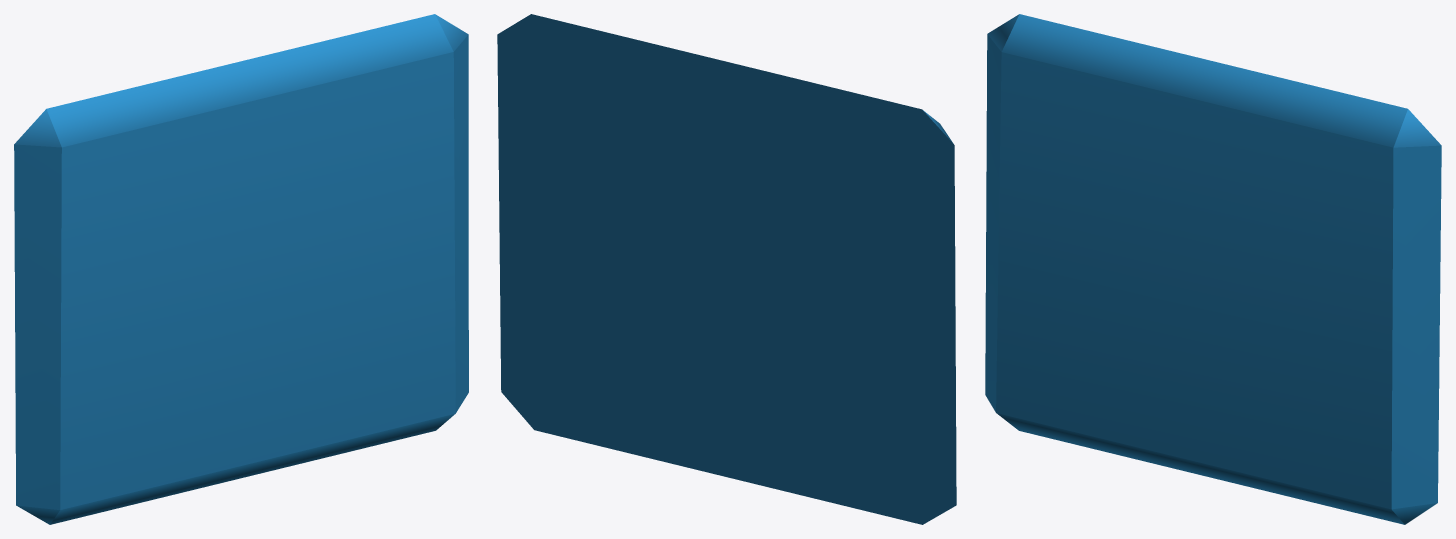
Rendered from YetiScannerLatch_1.glb.
3 views of the same model, side by side, from view 1: azimuth 30°, elevation 25°; view 2: azimuth 150°, elevation 25°; view 3: azimuth 330°, elevation 25° (orthographic).
Visible parts, largest first — view 1: YetiScannerLatch; view 2: YetiScannerLatch; view 3: YetiScannerLatch.
Part boxes in pixels (x1,y1,x2,y2): YetiScannerLatch: [14, 14, 468, 524]; YetiScannerLatch: [497, 14, 956, 524]; YetiScannerLatch: [985, 14, 1441, 524].
Bounding box in the file's own units: 0.3494 × 0.3049 × 0.0249.
